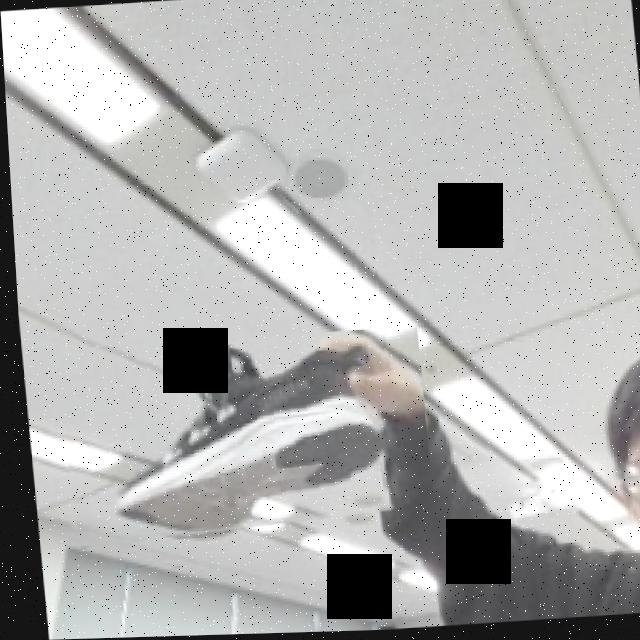shoe: (45, 328, 430, 549)
